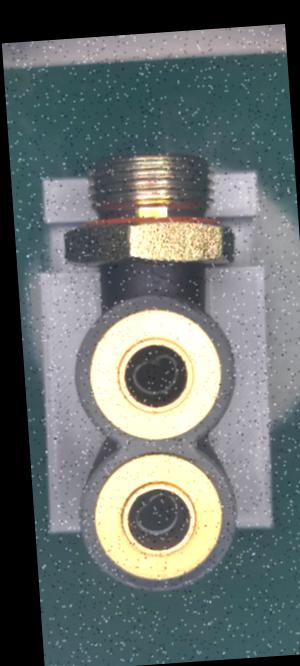craze: (148, 268, 178, 287)
off-centered: (123, 349, 184, 407), (125, 488, 182, 542)
